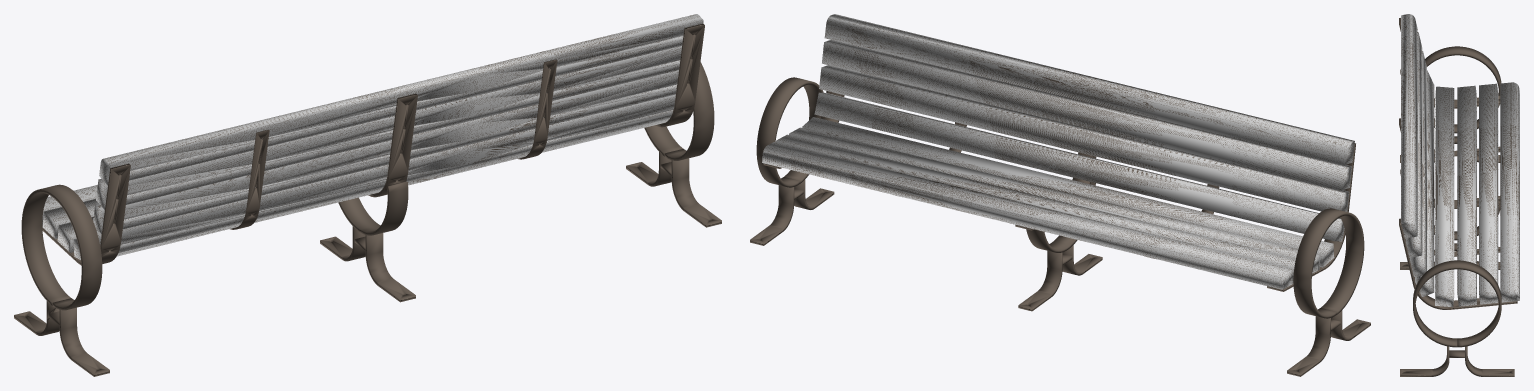
The picture shows the model from 3 angles, left to right: view 1: azimuth 30°, elevation 25°; view 2: azimuth 150°, elevation 25°; view 3: azimuth 270°, elevation 25°; orthographic projection. The views are drawn at different scales.
Visible parts, largest first — view 1: mesh2_mesh2-geometry, mesh16_mesh16-geometry, mesh15_mesh15-geometry, mesh10_mesh10-geometry, mesh3_mesh3-geometry, mesh13_mesh13-geometry, mesh14_mesh14-geometry, mesh1_mesh1-geometry, mesh5_mesh5-geometry, mesh8_mesh8-geometry, mesh6_mesh6-geometry, mesh11_mesh11-geometry (+2 smaller); view 2: mesh2_mesh2-geometry, mesh3_mesh3-geometry, mesh16_mesh16-geometry, mesh1_mesh1-geometry, mesh10_mesh10-geometry, mesh15_mesh15-geometry, mesh13_mesh13-geometry, mesh14_mesh14-geometry, mesh12_mesh12-geometry, mesh7_mesh7-geometry, mesh8_mesh8-geometry, mesh11_mesh11-geometry (+1 smaller); view 3: mesh3_mesh3-geometry, mesh2_mesh2-geometry, mesh10_mesh10-geometry, mesh1_mesh1-geometry, mesh13_mesh13-geometry, mesh16_mesh16-geometry, mesh15_mesh15-geometry, mesh11_mesh11-geometry, mesh12_mesh12-geometry, mesh9_mesh9-geometry.
Boxes of the visible parts, x1=… form: mesh2_mesh2-geometry: x1=93, y1=14, x2=703, y2=233; mesh16_mesh16-geometry: x1=95, y1=94, x2=675, y2=252; mesh15_mesh15-geometry: x1=21, y1=184, x2=102, y2=310; mesh10_mesh10-geometry: x1=42, y1=23, x2=704, y2=264; mesh3_mesh3-geometry: x1=42, y1=129, x2=269, y2=238; mesh13_mesh13-geometry: x1=644, y1=62, x2=714, y2=160; mesh14_mesh14-geometry: x1=14, y1=301, x2=109, y2=376; mesh1_mesh1-geometry: x1=73, y1=118, x2=669, y2=260; mesh5_mesh5-geometry: x1=368, y1=93, x2=417, y2=197; mesh8_mesh8-geometry: x1=338, y1=181, x2=408, y2=235; mesh6_mesh6-geometry: x1=365, y1=233, x2=415, y2=302; mesh11_mesh11-geometry: x1=671, y1=158, x2=721, y2=227; mesh2_mesh2-geometry: x1=819, y1=14, x2=1354, y2=211; mesh3_mesh3-geometry: x1=762, y1=134, x2=1295, y2=289; mesh16_mesh16-geometry: x1=814, y1=92, x2=1344, y2=241; mesh1_mesh1-geometry: x1=802, y1=117, x2=1334, y2=267; mesh10_mesh10-geometry: x1=763, y1=91, x2=1355, y2=291; mesh15_mesh15-geometry: x1=1293, y1=208, x2=1364, y2=318; mesh13_mesh13-geometry: x1=756, y1=77, x2=823, y2=187; mesh14_mesh14-geometry: x1=1287, y1=310, x2=1370, y2=376; mesh12_mesh12-geometry: x1=750, y1=185, x2=794, y2=245; mesh7_mesh7-geometry: x1=1018, y1=250, x2=1062, y2=311; mesh8_mesh8-geometry: x1=1026, y1=182, x2=1095, y2=252; mesh11_mesh11-geometry: x1=794, y1=179, x2=834, y2=209; mesh3_mesh3-geometry: x1=1400, y1=69, x2=1519, y2=304; mesh2_mesh2-geometry: x1=1400, y1=14, x2=1500, y2=276; mesh10_mesh10-geometry: x1=1399, y1=18, x2=1517, y2=309; mesh1_mesh1-geometry: x1=1435, y1=86, x2=1454, y2=307; mesh13_mesh13-geometry: x1=1413, y1=260, x2=1501, y2=347; mesh16_mesh16-geometry: x1=1415, y1=70, x2=1434, y2=297; mesh15_mesh15-geometry: x1=1425, y1=46, x2=1501, y2=133; mesh11_mesh11-geometry: x1=1400, y1=346, x2=1449, y2=376; mesh12_mesh12-geometry: x1=1465, y1=346, x2=1514, y2=376; mesh9_mesh9-geometry: x1=1449, y1=350, x2=1464, y2=357.
Bounding box in the file's own units: 0.9311 × 0.2944 × 0.2154.
